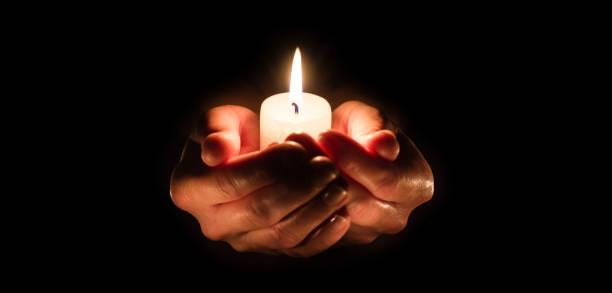Fire: (286, 45, 308, 104)
